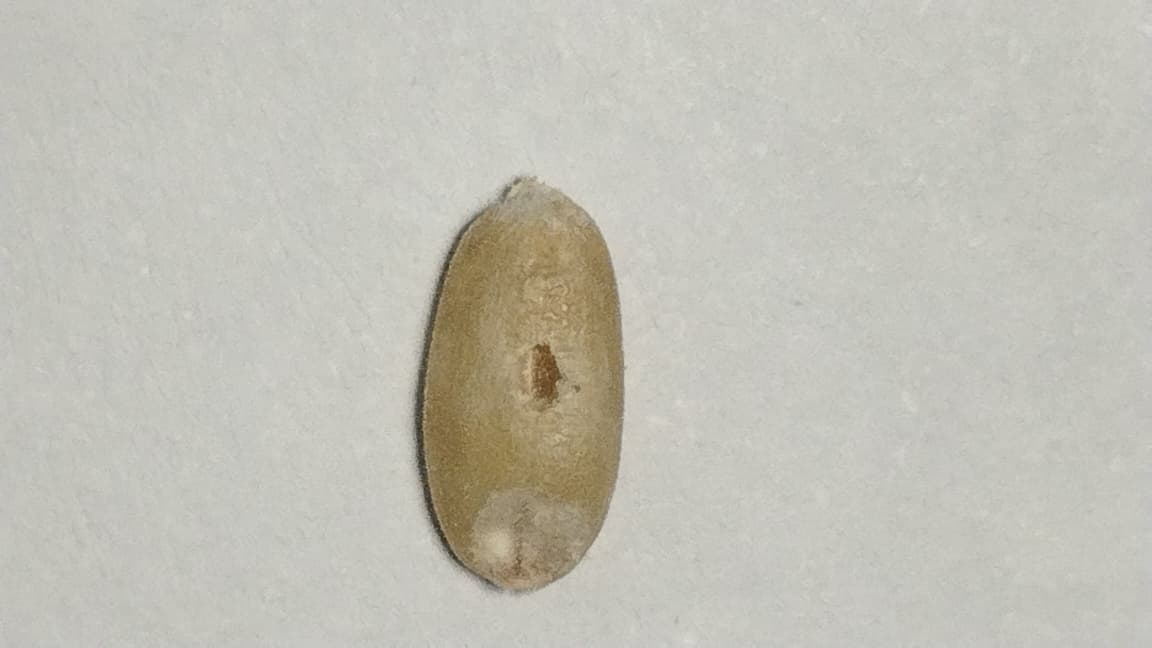damage: (415, 176, 623, 591)
insectdamage: (468, 488, 594, 589), (503, 277, 580, 440)
